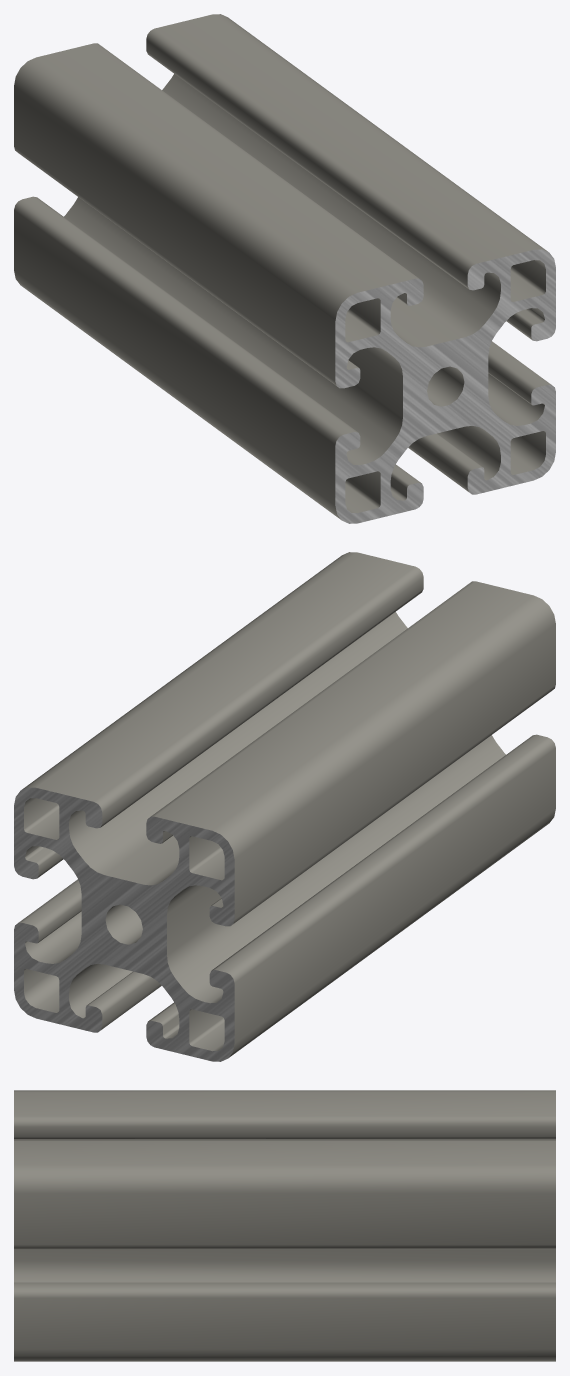
File: item-profile-high.glb
3 renders of one model, top to bottom at view 1: azimuth 30°, elevation 25°; view 2: azimuth 150°, elevation 25°; view 3: azimuth 270°, elevation 25°, orthographic. The views are drawn at different scales.
Visible parts, largest first — view 1: item_0002633_Profil_8_40x40_leicht_L=101_1; view 2: item_0002633_Profil_8_40x40_leicht_L=101_1; view 3: item_0002633_Profil_8_40x40_leicht_L=101_1.
Part boxes in pixels (x1,y1,x2,y2): item_0002633_Profil_8_40x40_leicht_L=101_1: (14, 14, 555, 523); item_0002633_Profil_8_40x40_leicht_L=101_1: (14, 552, 555, 1061); item_0002633_Profil_8_40x40_leicht_L=101_1: (14, 1090, 555, 1361).
Size of the model in its own units: 0.04 by 0.04 by 0.101.
Materials: 2 (1 with a texture image).
